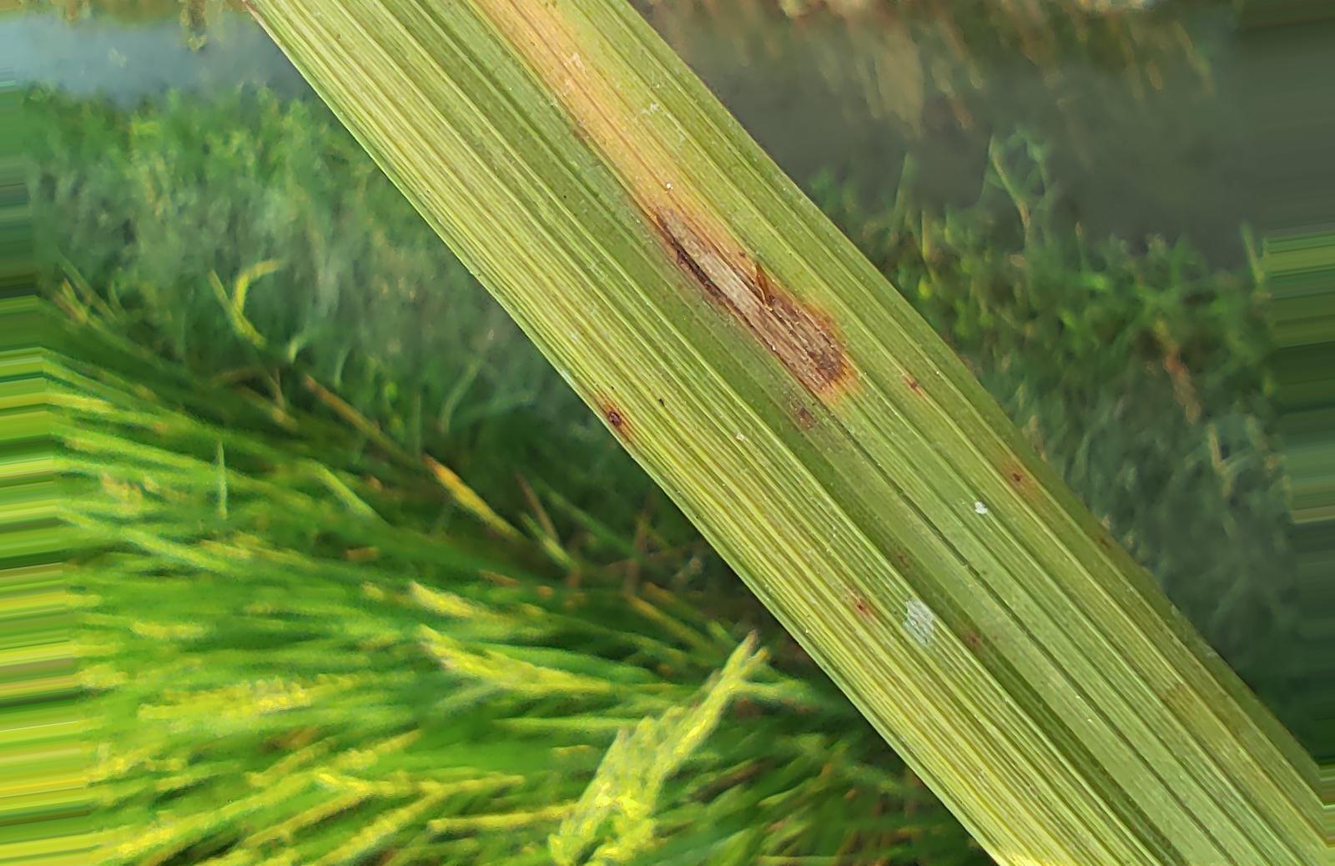LEAF: (252, 0, 1334, 865)
LEAF BLAST: (651, 199, 850, 397), (604, 408, 625, 427)
